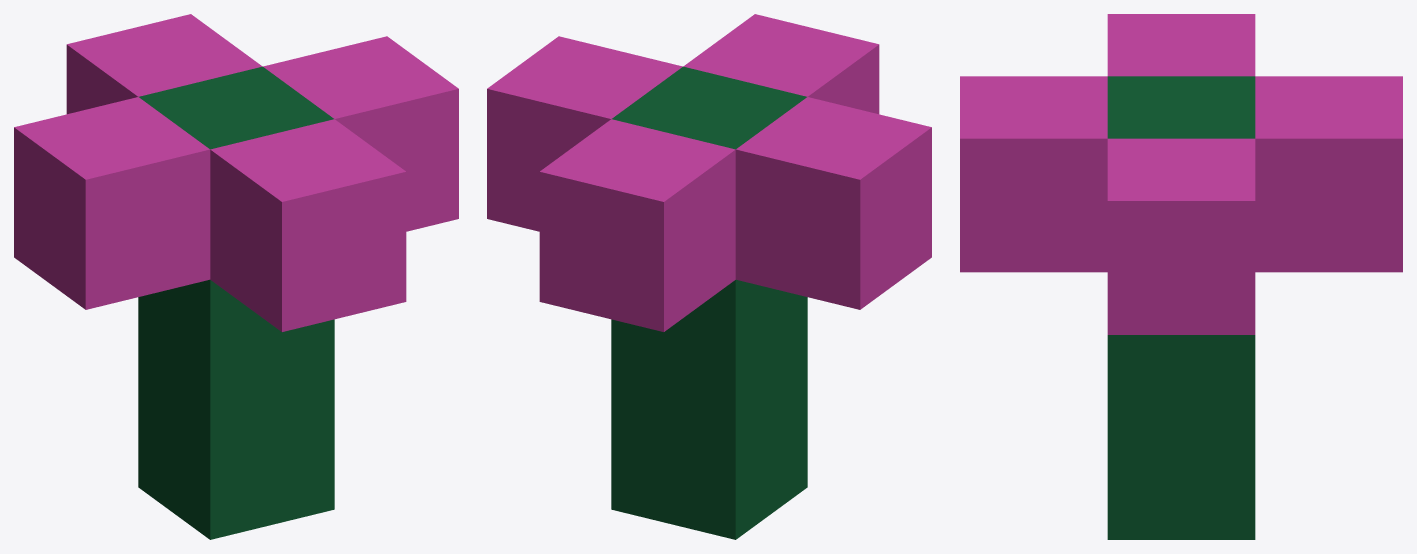
Rendered from flower_g_7.obj.
3 renders of one model, left to right at view 1: azimuth 30°, elevation 25°; view 2: azimuth 150°, elevation 25°; view 3: azimuth 270°, elevation 25°, orthographic. The views are drawn at different scales.
Size of the model in its own units: 0.3 by 0.3 by 0.3.
Materials: 1 (1 with a texture image).
